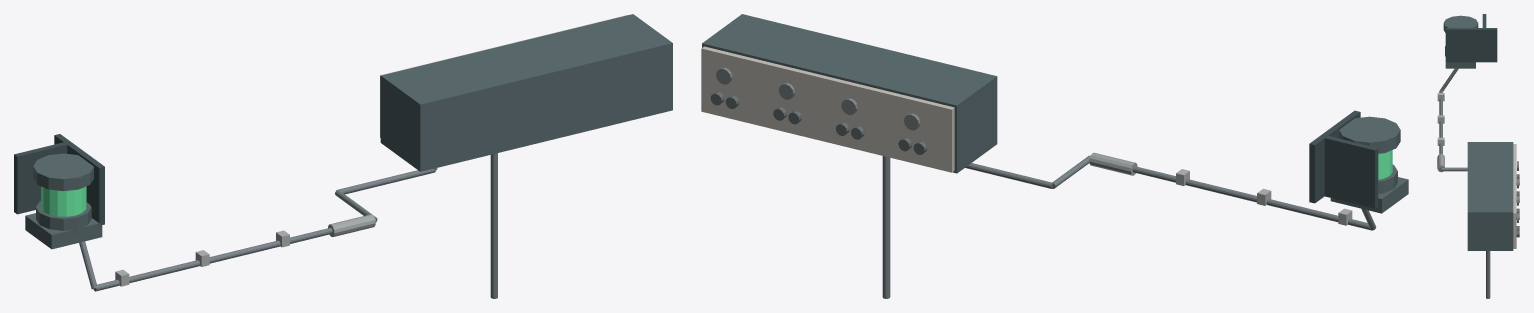
Rendered from navigation-feeder-v1.glb.
3 renders of one model, left to right at view 1: azimuth 30°, elevation 25°; view 2: azimuth 150°, elevation 25°; view 3: azimuth 270°, elevation 25°, orthographic. The views are drawn at different scales.
Parts seen in each view (by area): view 1: Navigation feeder housing and two-core cable, Starboard sidelight; view 2: Navigation feeder housing and two-core cable; view 3: Navigation feeder housing and two-core cable.
Boxes of the visible parts, x1,y1,x2,y2 form: Navigation feeder housing and two-core cable: (14,14,672,298); Starboard sidelight: (41,186,86,216); Navigation feeder housing and two-core cable: (701,14,1408,298); Navigation feeder housing and two-core cable: (1437,14,1519,298).
Bounding box in the file's own units: 2.8 × 1.09 × 0.542.
